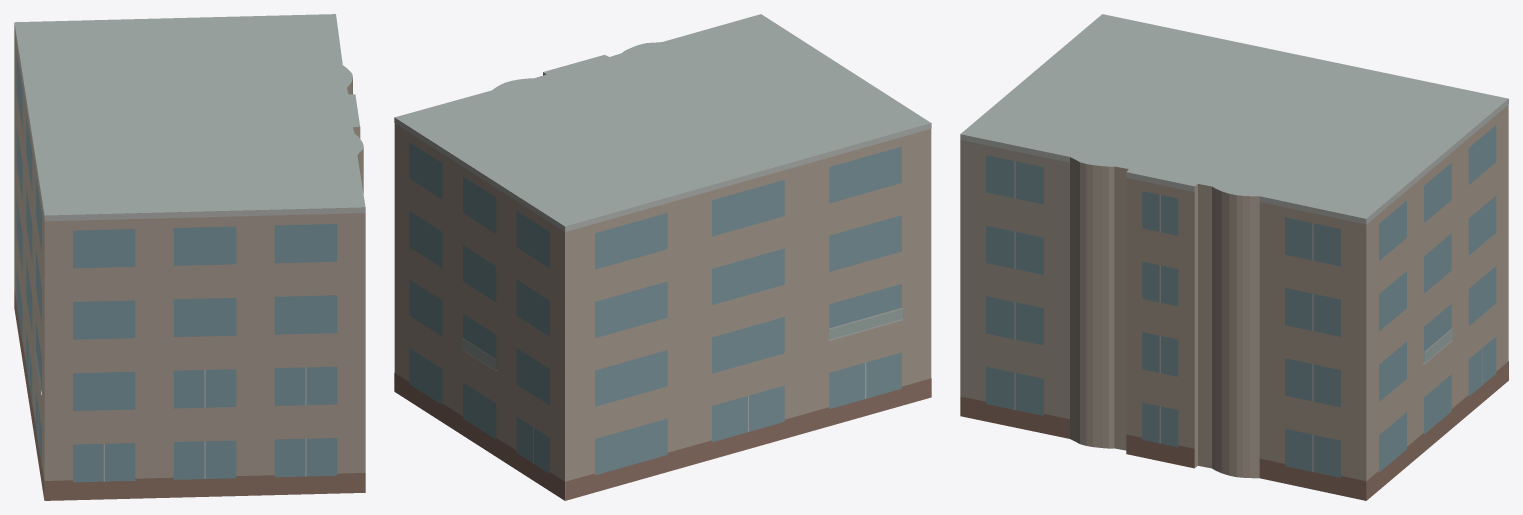
The model's file is survey-upis-32842170.glb.
The picture shows the model from 3 angles, left to right: view 1: azimuth 30°, elevation 25°; view 2: azimuth 150°, elevation 25°; view 3: azimuth 270°, elevation 25°; orthographic projection. The views are drawn at different scales.
Visible parts, largest first — view 1: survey-upis-32842170.tmp; view 2: survey-upis-32842170.tmp; view 3: survey-upis-32842170.tmp.
Part boxes in pixels (left/top/right/bottom): survey-upis-32842170.tmp: left=14, top=14, right=365, bottom=500; survey-upis-32842170.tmp: left=394, top=14, right=931, bottom=500; survey-upis-32842170.tmp: left=960, top=14, right=1508, bottom=500.
Bounding box in the file's own units: 18.71 × 12 × 21.16.
